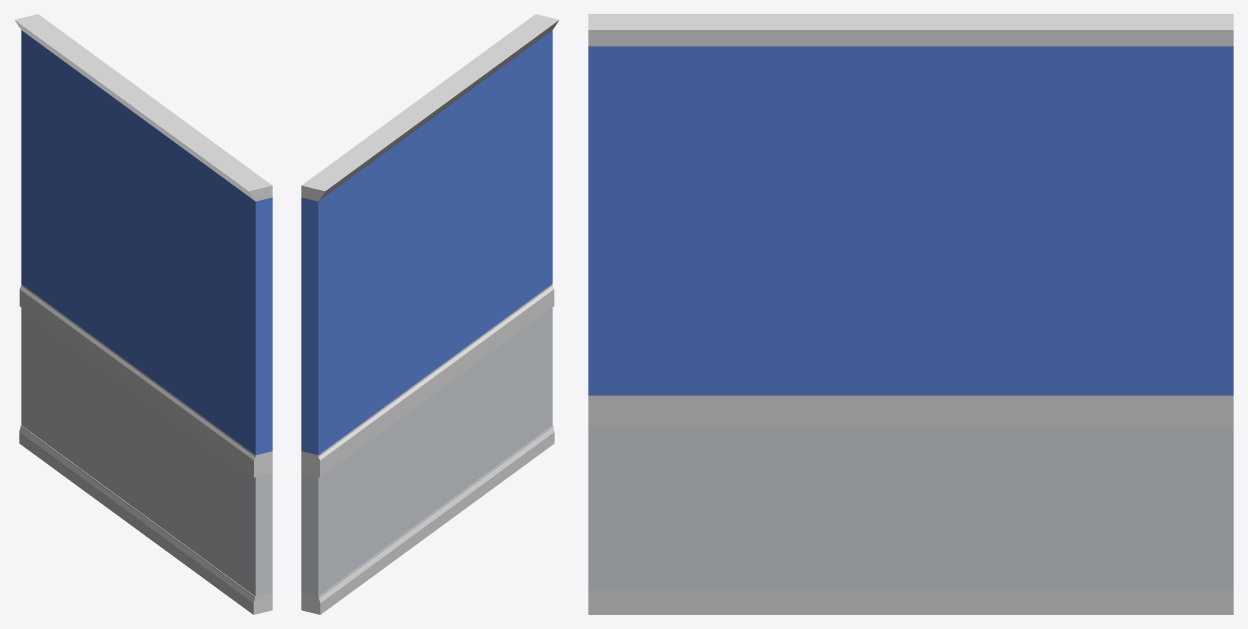
Rendered from blenderWall.fbx.
3 views of the same model, side by side, from view 1: azimuth 30°, elevation 25°; view 2: azimuth 150°, elevation 25°; view 3: azimuth 270°, elevation 25° (orthographic). The views are drawn at different scales.
Visible parts, largest first — view 1: WallWindow.002; view 2: WallWindow.002; view 3: WallWindow.002.
Boxes of the visible parts, <box> form: WallWindow.002: <box>14,14,272,614</box>; WallWindow.002: <box>301,14,559,614</box>; WallWindow.002: <box>588,14,1233,614</box>.
Bounding box in the file's own units: 14.27 × 244 × 244.
